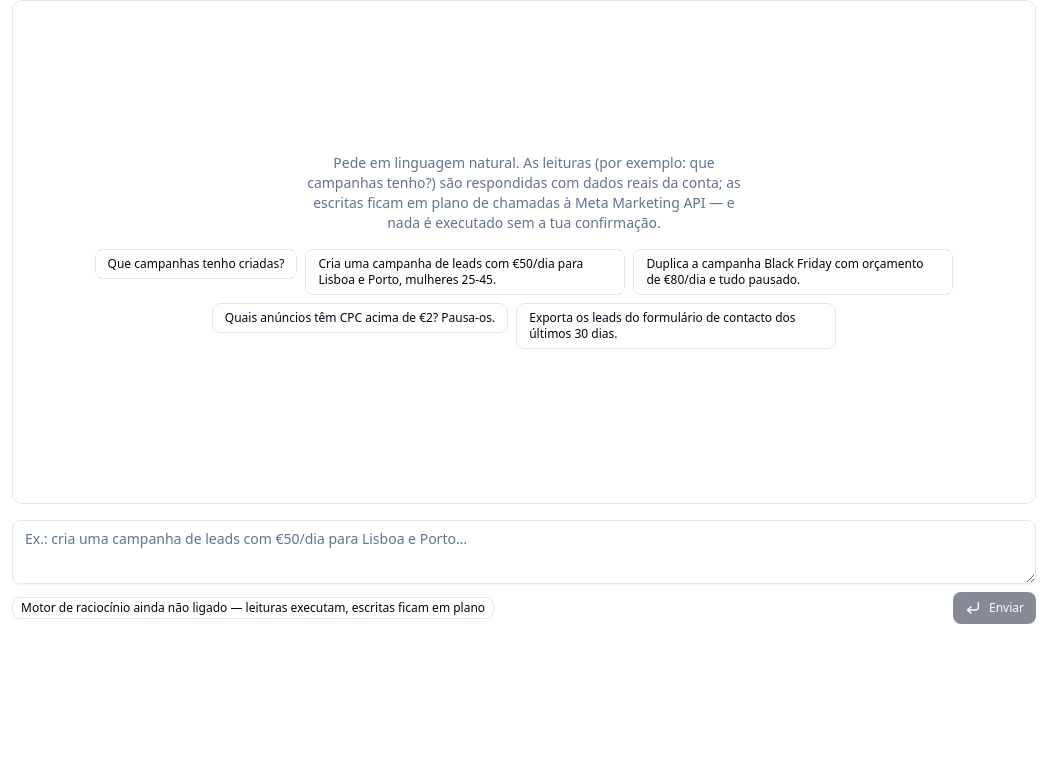
Test: ChatPanel › appends the user message and the agent reply to the history
Type "Cria uma campanha" into the text box named "Mensagem para o agente" at {"x": 524, "y": 552}, box [12,520,1036,584]
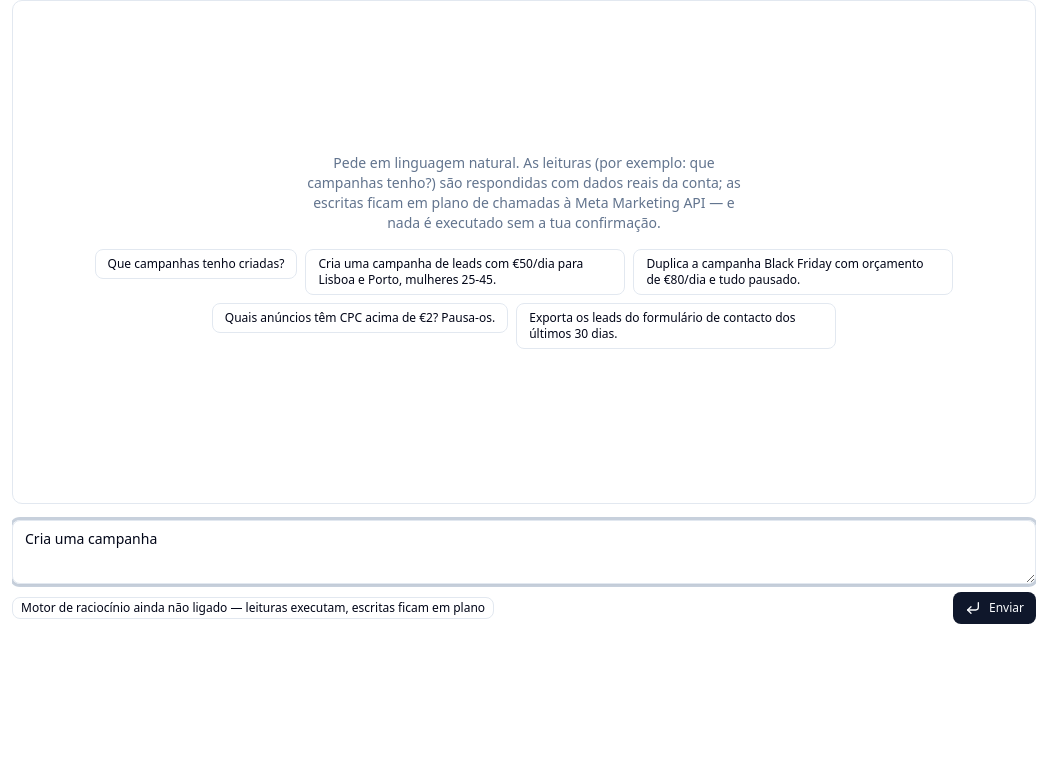
Click the button "Enviar" at {"x": 994, "y": 608}, box [953,592,1036,624]
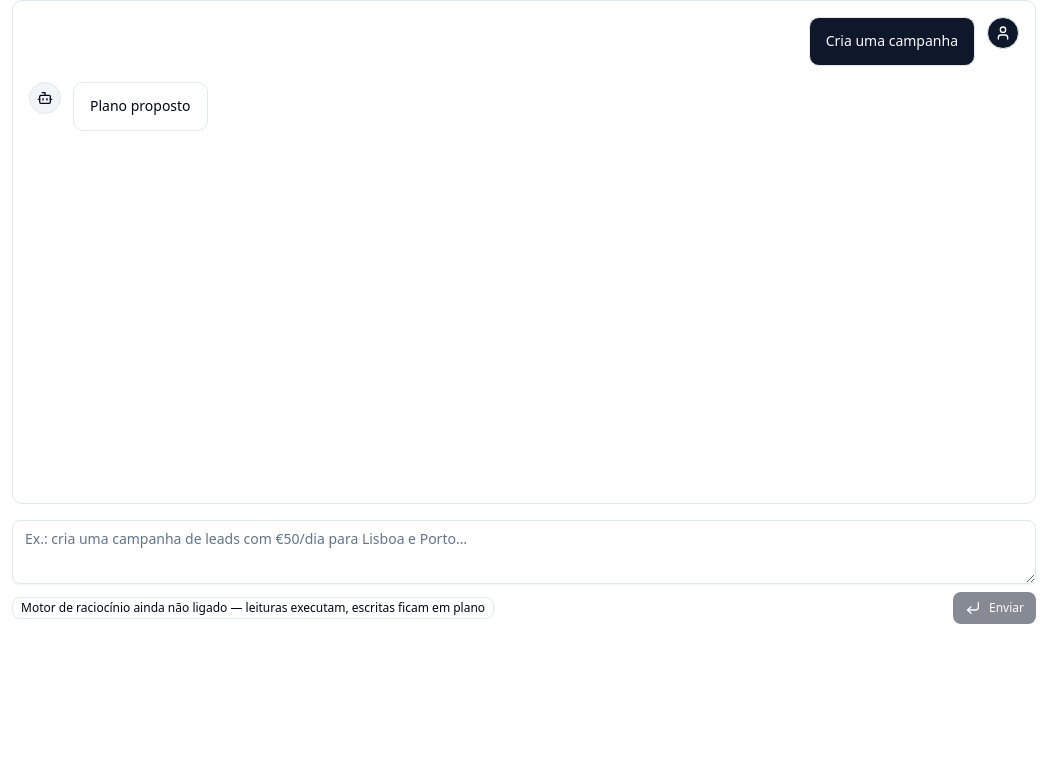
Expected: the text "Cria uma campanha" is shown, [809,17,975,66]
Expected: the text "Plano proposto" is shown, [73,82,208,131]
